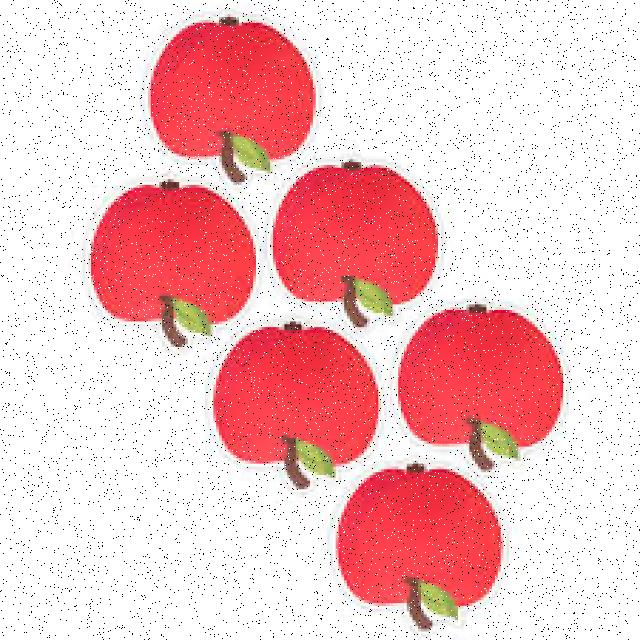Apple: (397, 308, 566, 452), (89, 182, 255, 324), (334, 469, 502, 607), (151, 18, 314, 158), (273, 166, 438, 304), (212, 329, 376, 462)
